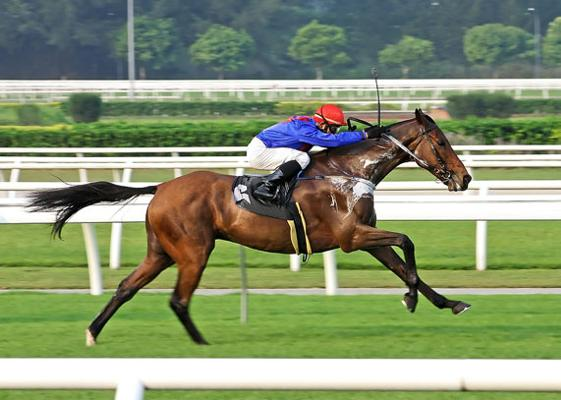person: (244, 103, 383, 205)
